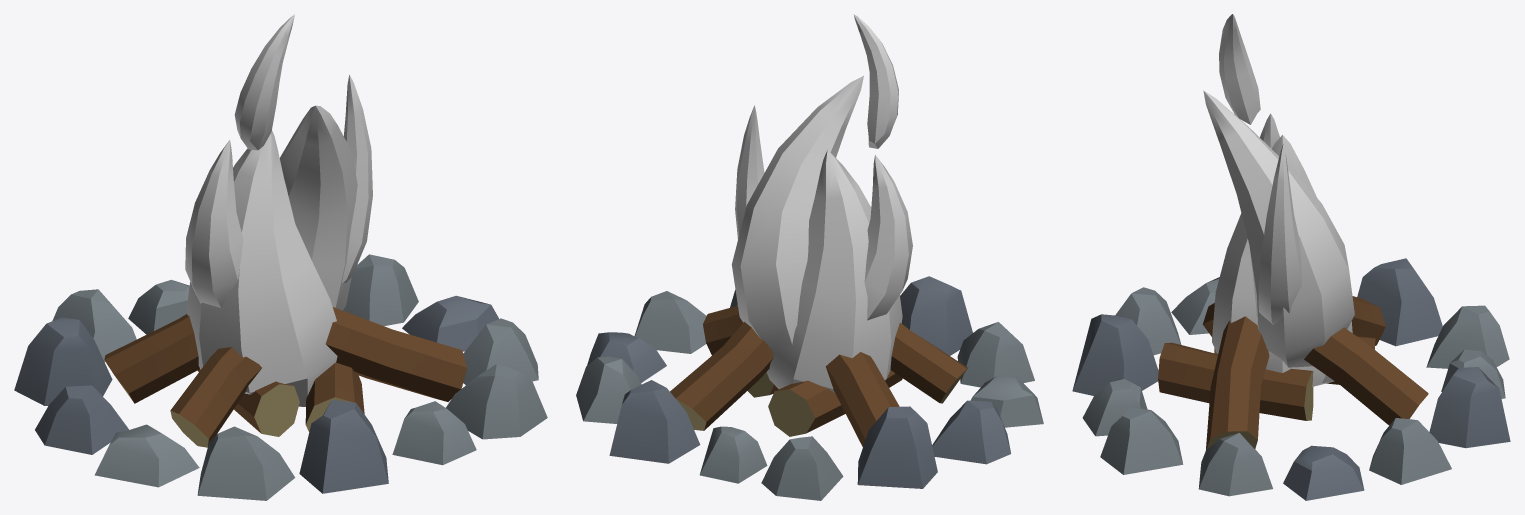
File: Bonfire_Lit.glb
3 renders of one model, left to right at view 1: azimuth 30°, elevation 25°; view 2: azimuth 150°, elevation 25°; view 3: azimuth 270°, elevation 25°, orthographic. The views are drawn at different scales.
Parts seen in each view (by area): view 1: Bonfire_Lit_Cylinder.009; view 2: Bonfire_Lit_Cylinder.009; view 3: Bonfire_Lit_Cylinder.009.
Part boxes in pixels (<box>): Bonfire_Lit_Cylinder.009: <box>14,14,547,500</box>; Bonfire_Lit_Cylinder.009: <box>576,14,1043,500</box>; Bonfire_Lit_Cylinder.009: <box>1072,14,1510,500</box>.
Size of the model in its own units: 0.4066 by 0.3528 by 0.3624.
